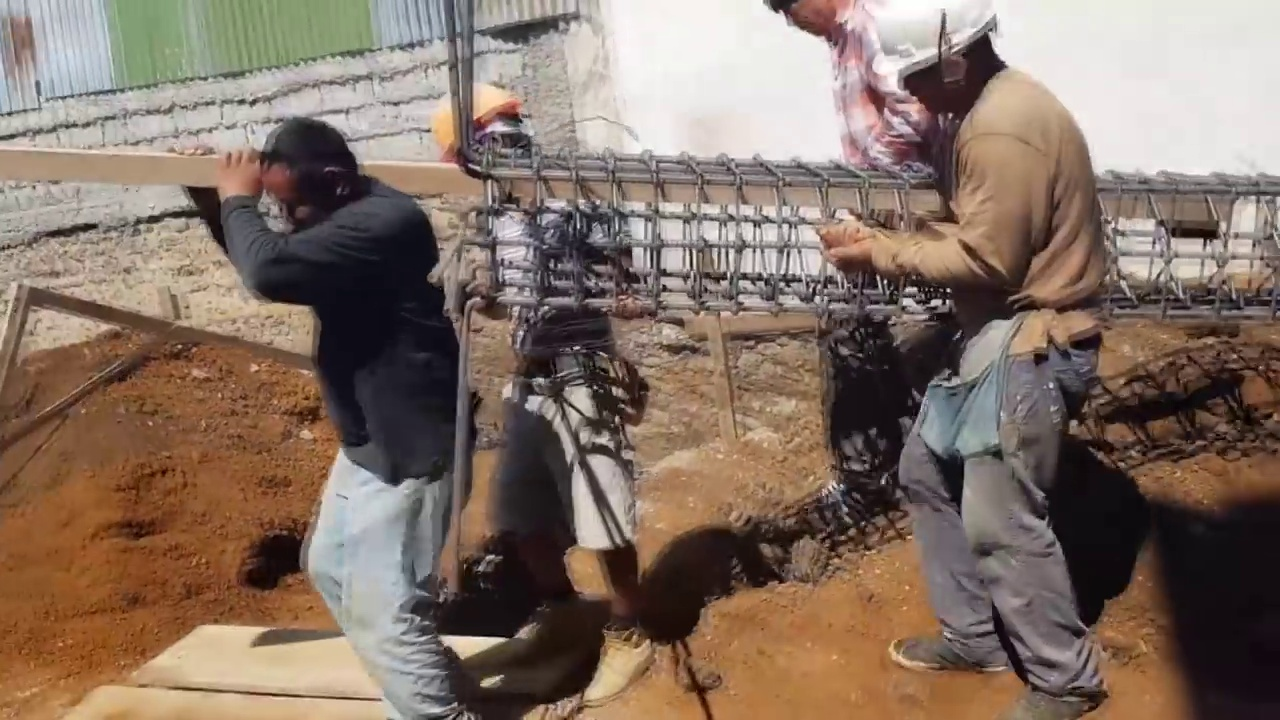helmet: (866, 0, 993, 75), (430, 85, 517, 147)
helmet-off: (248, 114, 362, 231), (766, 5, 852, 48)
helmet-on: (866, 0, 1005, 126), (435, 74, 544, 185)
person: (154, 95, 533, 685), (819, 2, 1119, 718), (414, 54, 658, 704), (763, 5, 944, 174)
